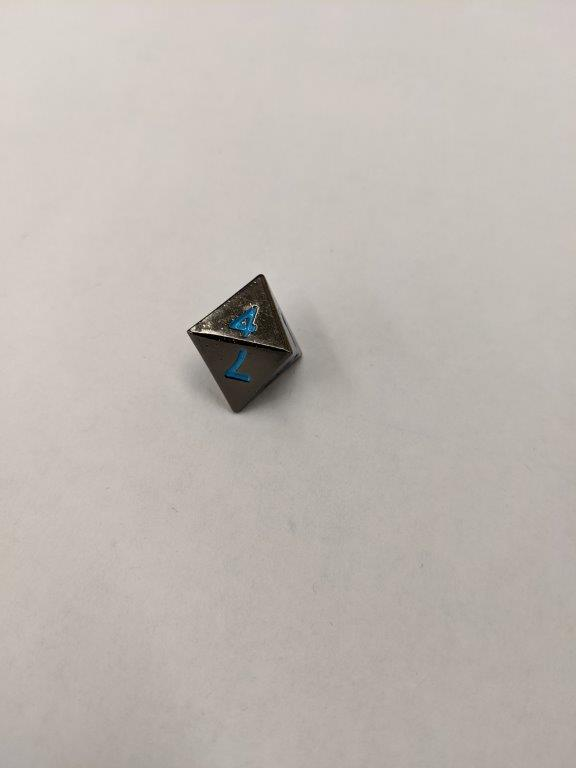d8-4: (185, 271, 305, 417)
